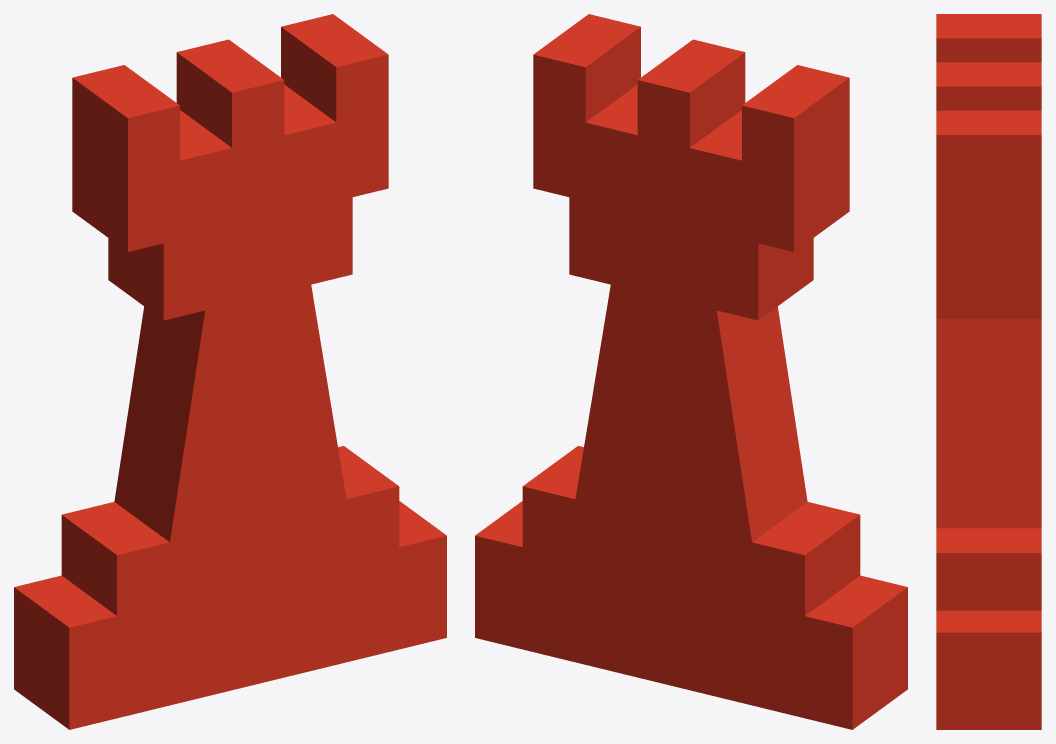
File: Icon_Chess_01.fbx
3 renders of one model, left to right at view 1: azimuth 30°, elevation 25°; view 2: azimuth 150°, elevation 25°; view 3: azimuth 270°, elevation 25°, orthographic. The views are drawn at different scales.
Parts seen in each view (by area): view 1: Icon_Chess_01; view 2: Icon_Chess_01; view 3: Icon_Chess_01.
Part boxes in pixels (x1,y1,x2,y2): Icon_Chess_01: (14,14,446,729); Icon_Chess_01: (475,14,907,729); Icon_Chess_01: (936,14,1041,729).
Size of the model in its own units: 47.39 by 71.68 by 12.06.
